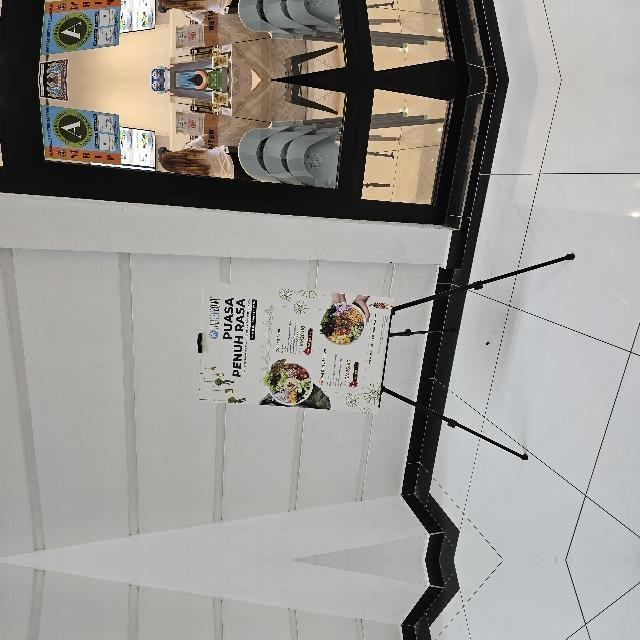obstacle: (96, 272, 310, 640), (96, 462, 310, 640)
person: (382, 238, 428, 324)
